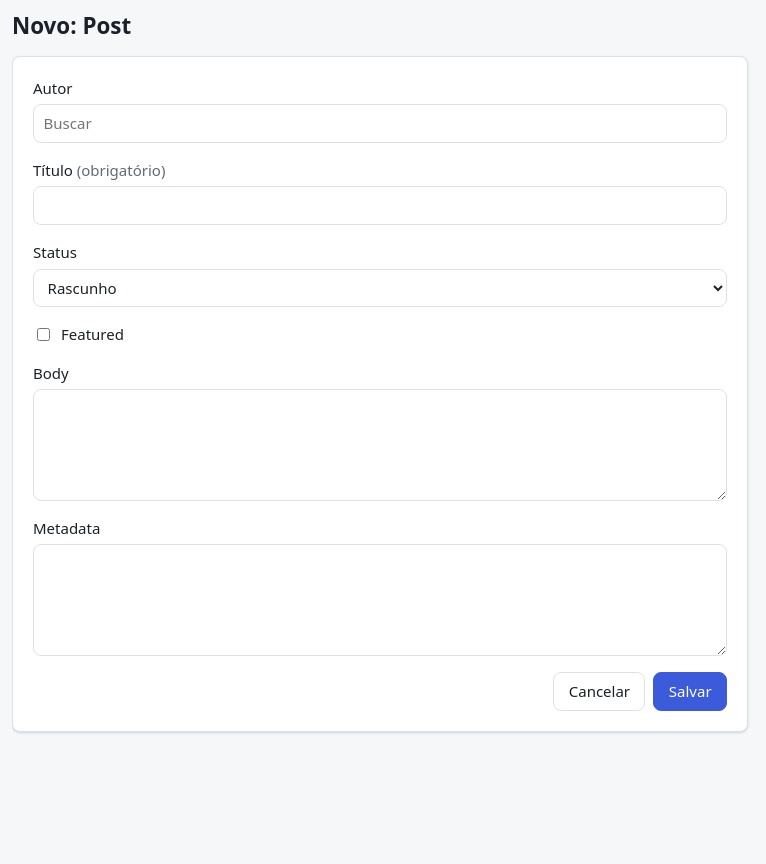
Test: shows server validation errors per field
Click the button "Salvar": (690, 692) [654, 672, 727, 711]
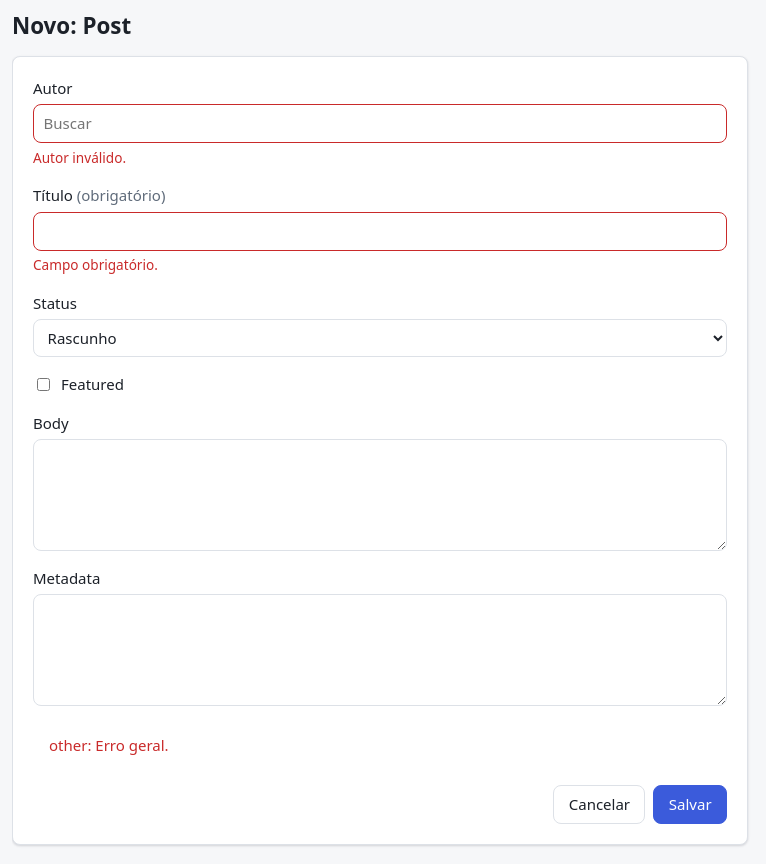
Now the text "Campo obrigatório." is shown, box [33, 255, 158, 274]
Now the text "Autor inválido." is shown, box [33, 148, 126, 167]
Now the message reads "other: Erro geral.", box [49, 736, 169, 756]
